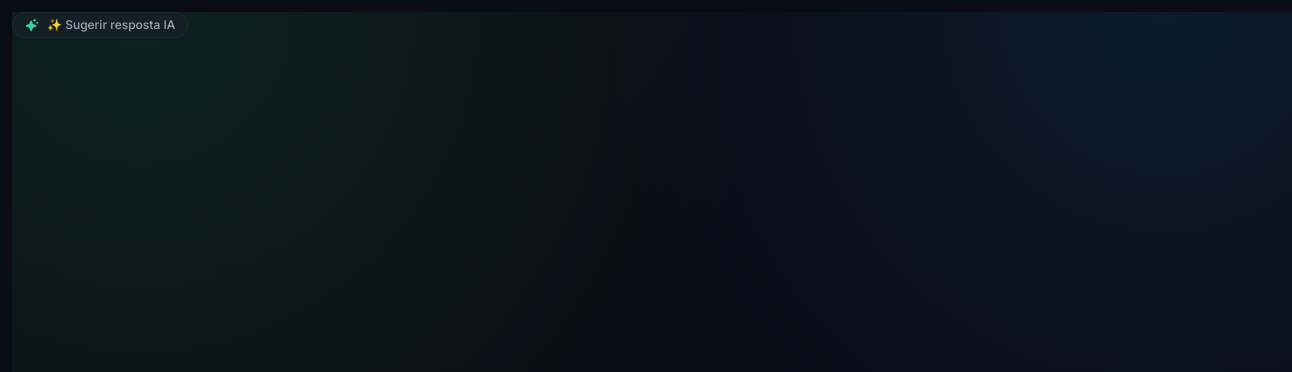
Reconstrução Visual & UX do Inbox (Mudanças 1, 2, 3 e 4) › Mudanças 3 + 4: ZaiAssistantComposer inicia fechado em botão compacto e expande inline com micro-timeline
Click the button with aria-label "Resposta IA disponível" at (100, 25), box [12,12,188,38]
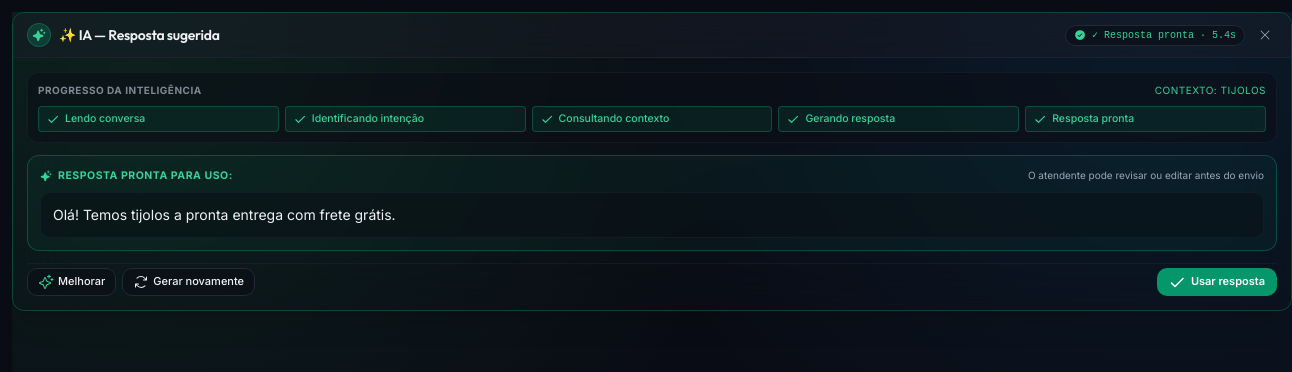
Check: the text "✨ IA — Resposta sugerida" is shown, box [59,25,220,45]
Check: the text "Lendo conversa" is shown, box [65,111,145,127]
Check: the text "Identificando intenção" is shown, box [312,111,424,127]
